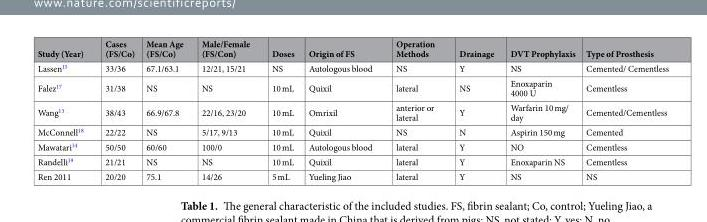table: (36, 37, 668, 182)
table column: (580, 37, 668, 182), (300, 37, 383, 182), (501, 37, 580, 182), (191, 37, 260, 182), (383, 37, 446, 182), (36, 37, 93, 182), (446, 37, 501, 182), (139, 37, 191, 182), (93, 37, 139, 182), (260, 37, 300, 182)
table column header: (36, 37, 668, 60)
table row: (36, 99, 668, 124), (36, 75, 668, 99), (36, 37, 668, 60), (36, 60, 668, 75), (36, 124, 668, 139), (36, 139, 668, 154), (36, 154, 668, 168), (36, 168, 668, 182)
